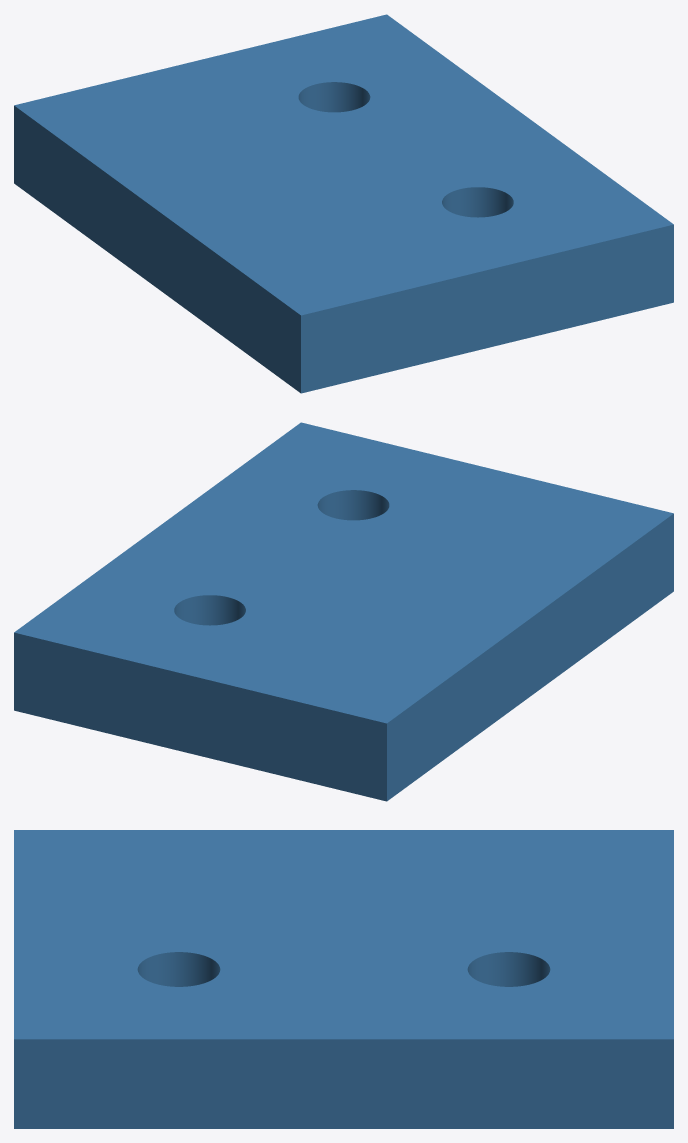
File: simetrik_plaka.gltf
The picture shows the model from 3 angles, top to bottom: view 1: azimuth 30°, elevation 25°; view 2: azimuth 150°, elevation 25°; view 3: azimuth 270°, elevation 25°; orthographic projection. The views are drawn at different scales.
Visible parts, largest first — view 1: plaka_part; view 2: plaka_part; view 3: plaka_part.
Part boxes in pixels (left/top/right/bottom): plaka_part: left=14, top=14, right=673, bottom=393; plaka_part: left=14, top=422, right=673, bottom=801; plaka_part: left=14, top=830, right=673, bottom=1128.
Size of the model in its own units: 30 by 6 by 40.
